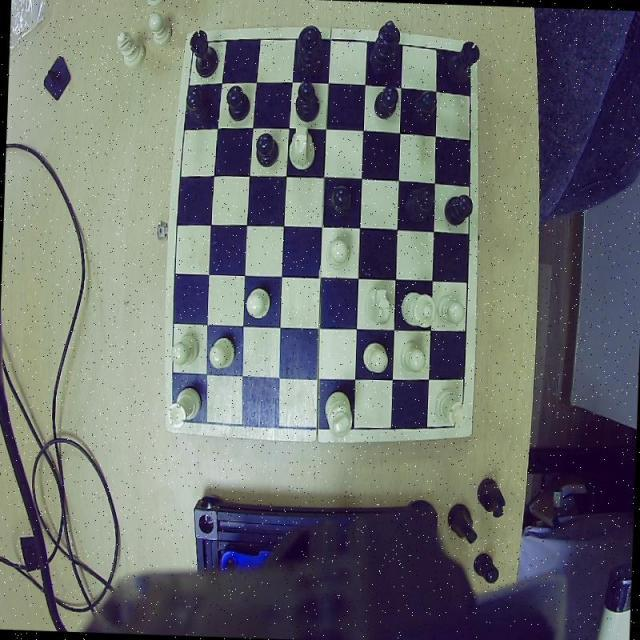chess-table-corners: (166, 404, 188, 430), (448, 414, 469, 437), (461, 42, 477, 70), (188, 32, 208, 54)
